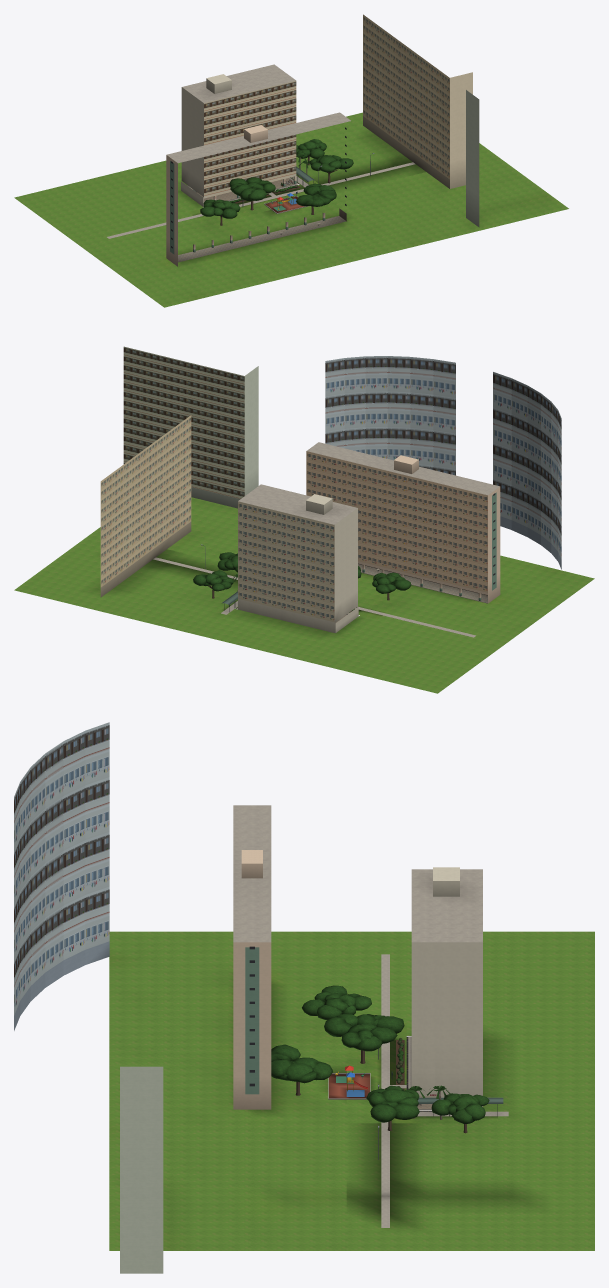
The model's file is voiddeck.glb.
3 views of the same model, one above another, from view 1: azimuth 30°, elevation 25°; view 2: azimuth 150°, elevation 25°; view 3: azimuth 270°, elevation 25° (orthographic). The views are drawn at different scales.
Parts seen in each view (by area): view 1: VoidDeck; view 2: VoidDeck; view 3: VoidDeck.
Part boxes in pixels (box(x1,y1,x2,y2)): VoidDeck: box(14, 14, 568, 307); VoidDeck: box(14, 346, 594, 693); VoidDeck: box(14, 722, 594, 1273).
Bounding box in the file's own units: 150 × 47.96 × 108.
Materials: 13 (9 with a texture image).
